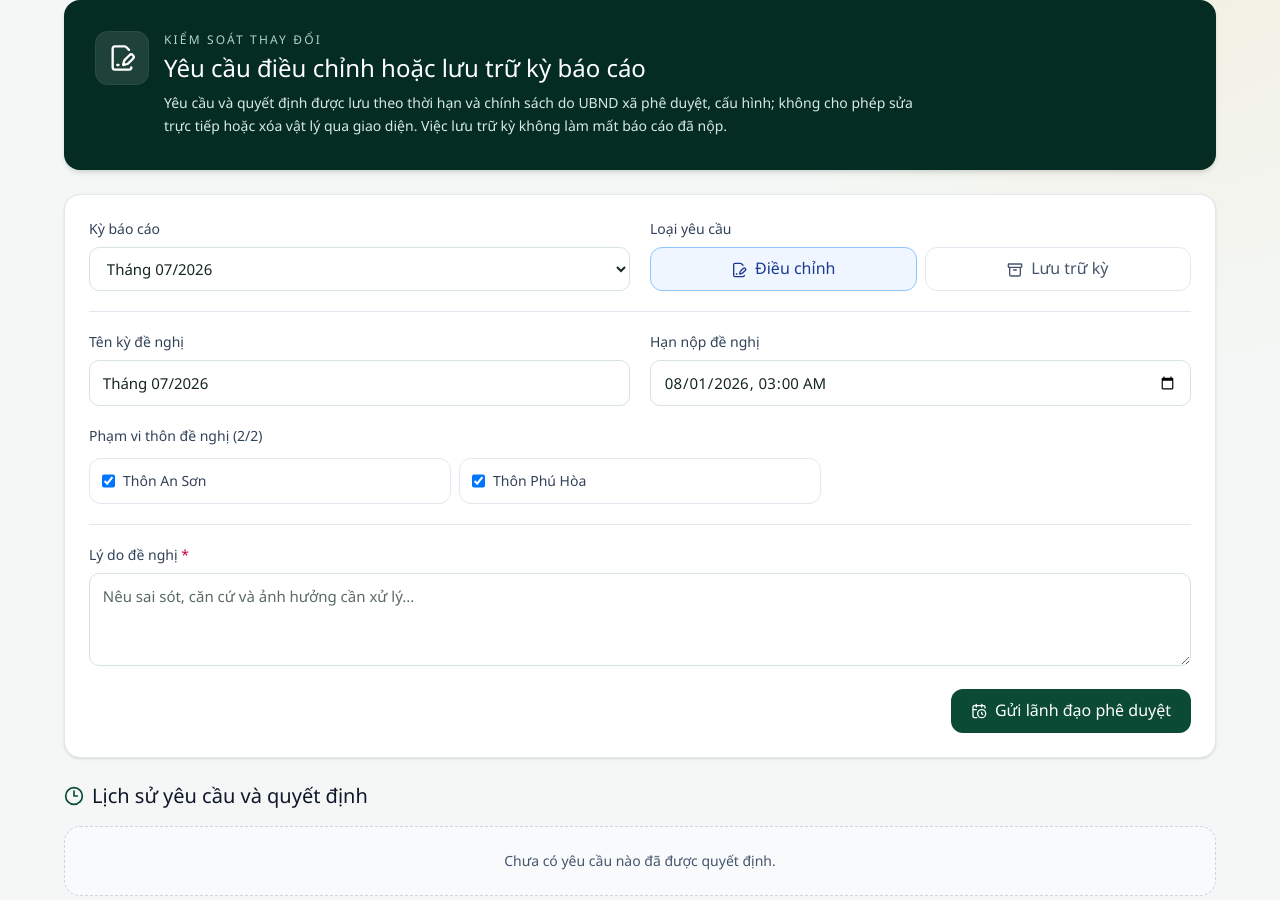
ReportPeriodChangeRequests › lets an administrator request a correction but does not edit the period directly
Expected: the text "thời hạn và chính sách do UBND xã phê duyệt" is shown, [164,93,913,135]
Replace the text in the field labelled "Tên kỳ đề nghị" with "Tháng 08/2026" at (360, 383), box [89,360,630,406]
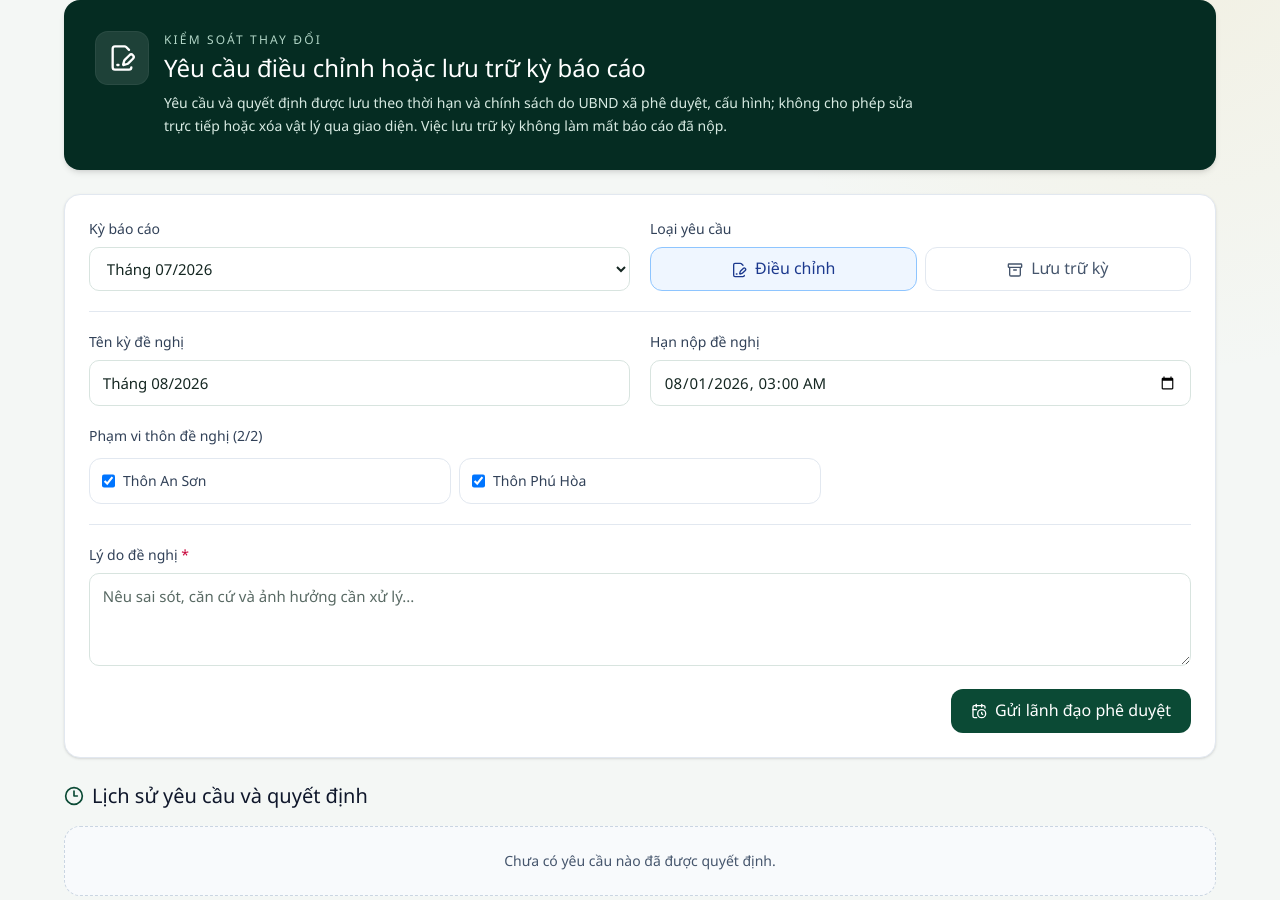
Type "Điều chỉnh theo văn bản rà soát đã ký." into the text box labelled "Lý do đề nghị *" at (640, 620), box [89,573,1191,666]
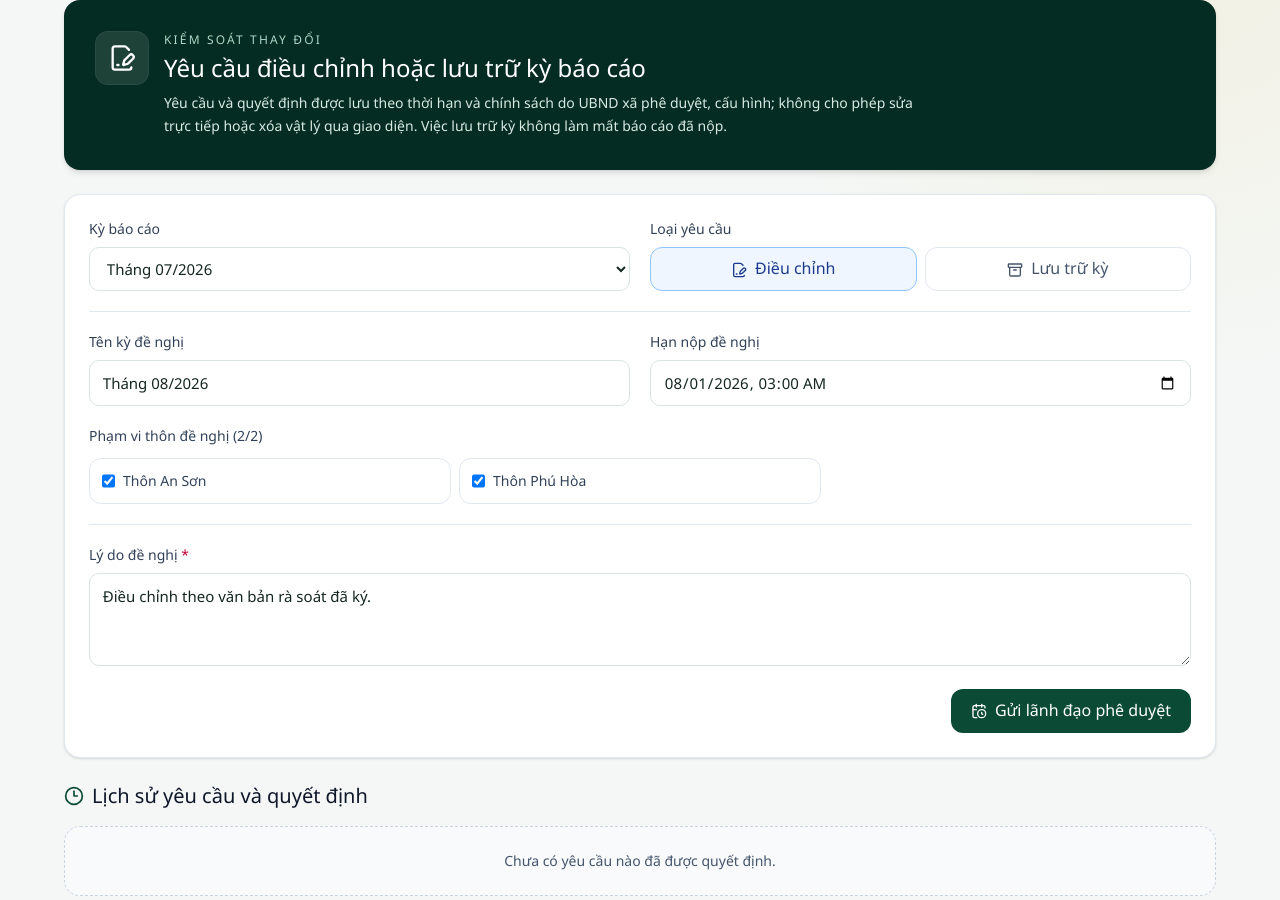
Click the button "Gửi lãnh đạo phê duyệt" at (1071, 711), box [951,689,1191,733]
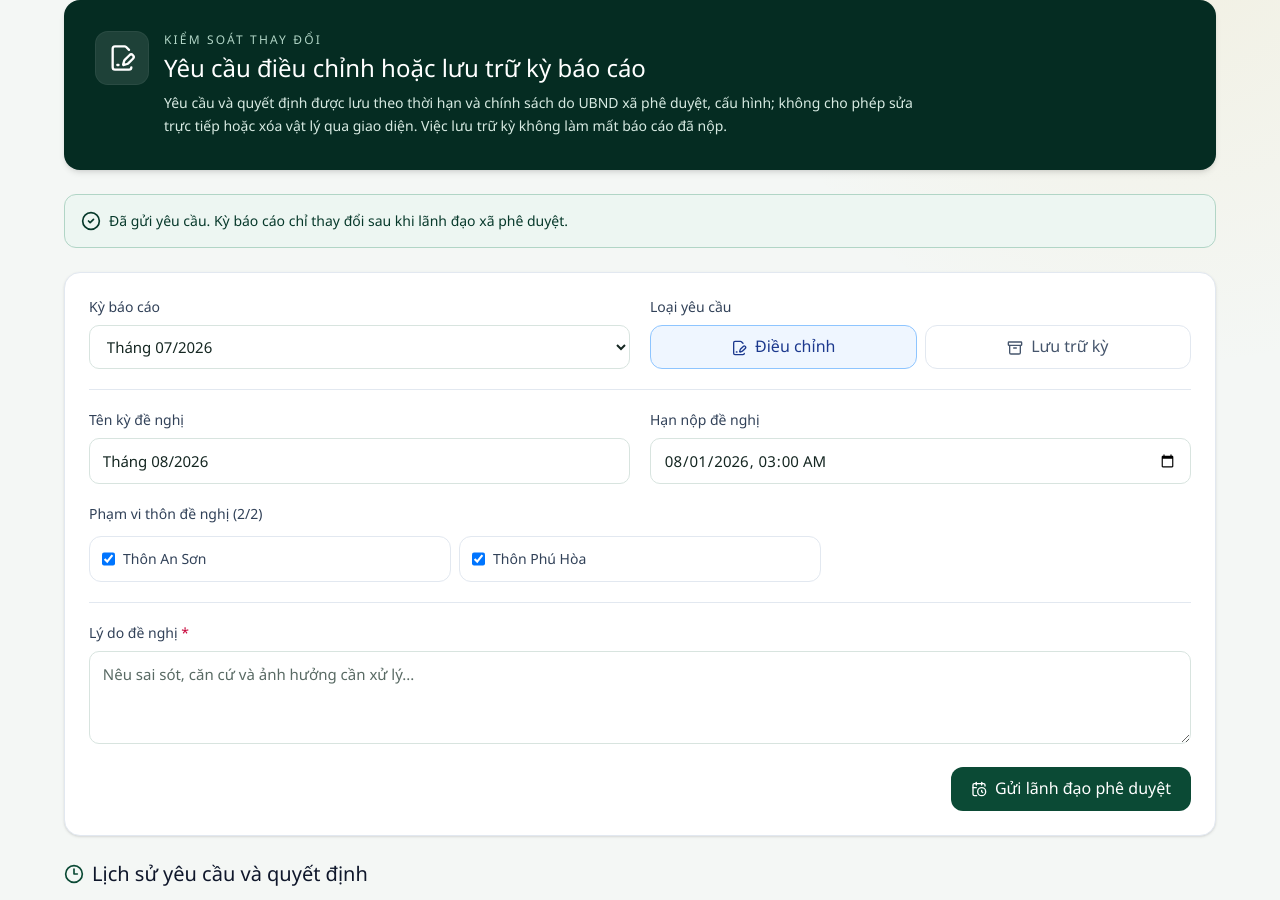
Expected: the text "Đã gửi yêu cầu. Kỳ báo cáo chỉ thay đổi sau khi lãnh đạo xã phê duyệt." is shown, [64,194,1216,248]
